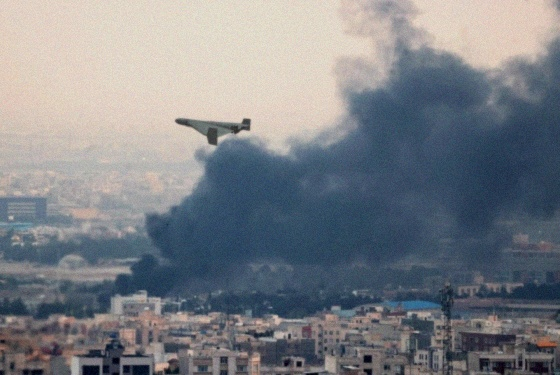shahed: (173, 114, 252, 147)
